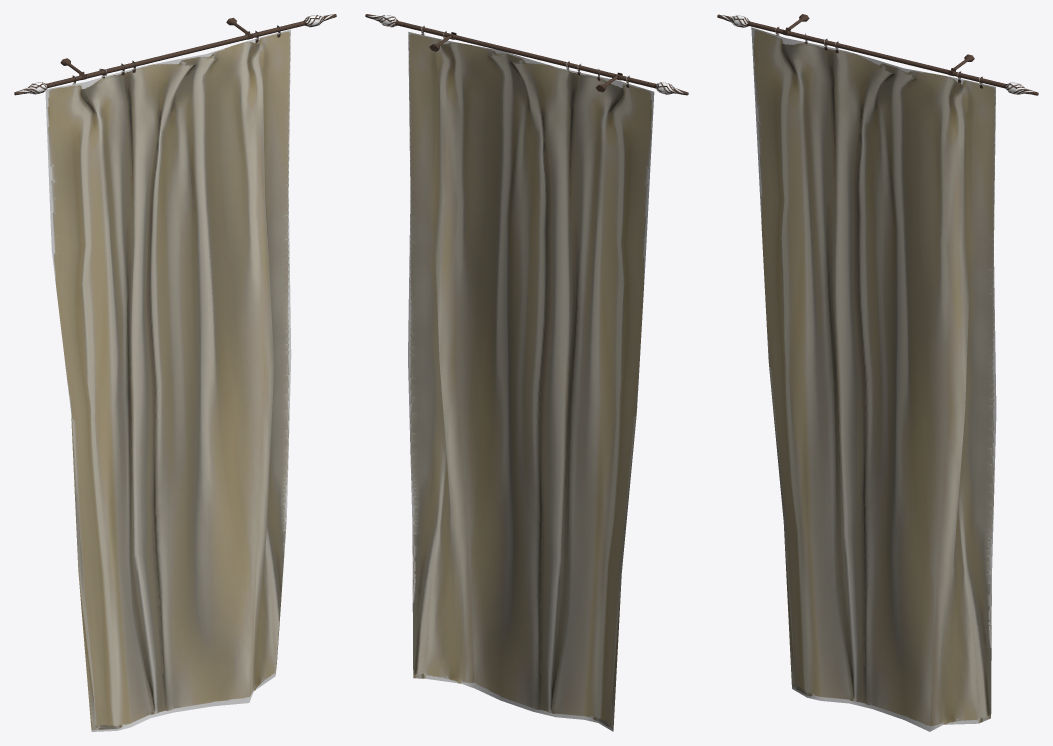
The model's file is Curtain02B.FBX.
The picture shows the model from 3 angles, left to right: view 1: azimuth 30°, elevation 25°; view 2: azimuth 150°, elevation 25°; view 3: azimuth 330°, elevation 25°; orthographic projection.
Parts seen in each view (by area): view 1: Curtain02B; view 2: Curtain02B; view 3: Curtain02B.
Boxes of the visible parts, x1,y1,x2,y2 form: Curtain02B: [14, 14, 336, 731]; Curtain02B: [365, 14, 688, 731]; Curtain02B: [717, 14, 1038, 731].
Size of the model in its own units: 195 by 30.85 by 383.
